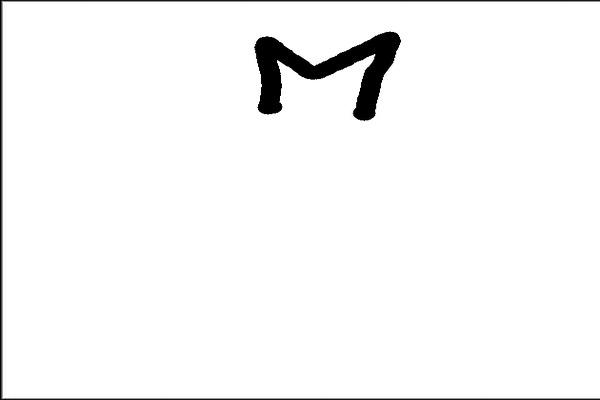M: (252, 30, 401, 118)
